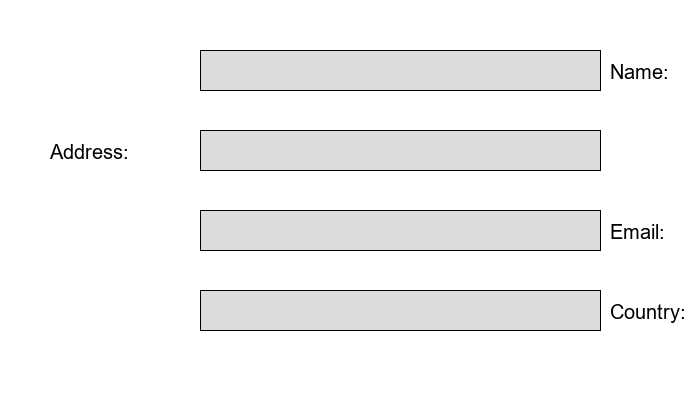Label: (610, 300, 680, 319), (50, 140, 124, 155), (610, 60, 663, 75), (610, 220, 659, 235)
Textbox: (200, 50, 600, 90), (200, 130, 600, 170), (200, 210, 600, 250), (200, 290, 600, 330)
